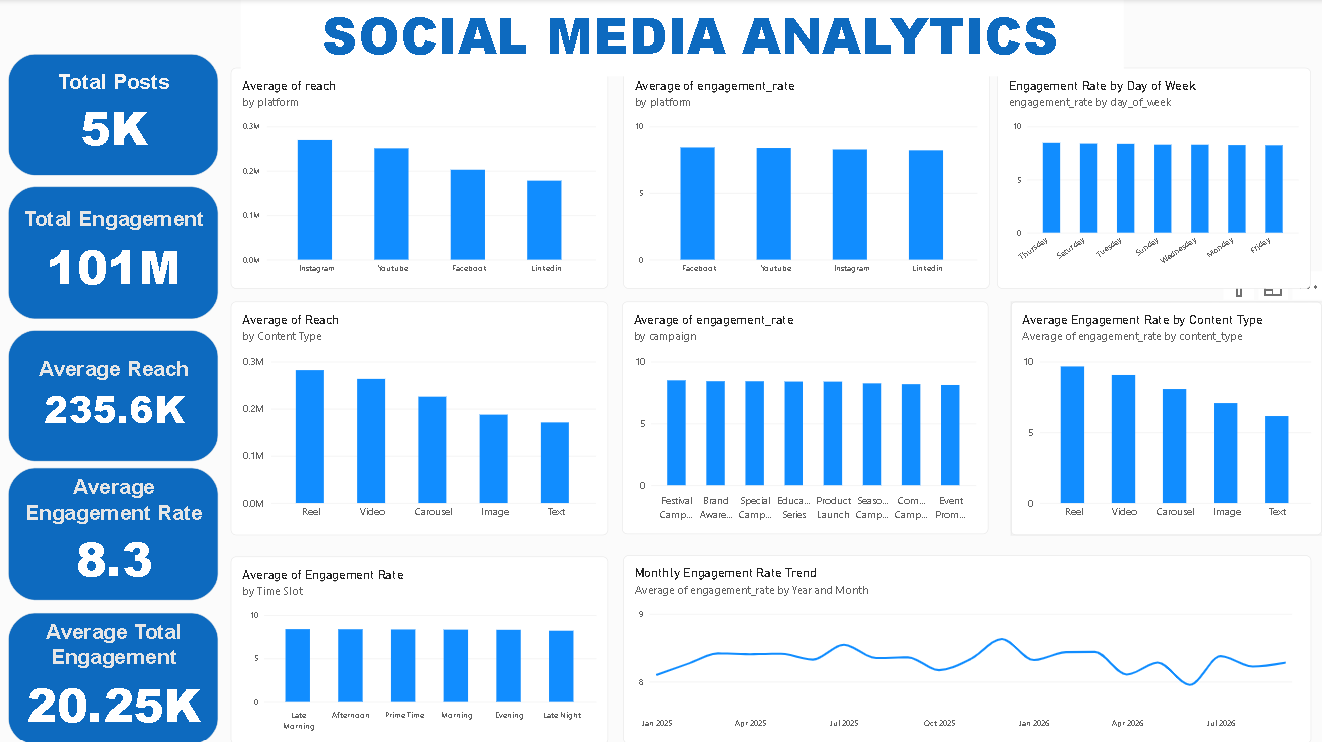

Layout of this report page (visuals, bound fields, positions):
{"tool":"powerbi","page":{"name":"Page 1","canvas":[1920,1080],"ordinal":0},"visuals":[{"type":"cardVisual","fields":{"Data":["CountNonNull(social_media_campaign_analytics social_media_posts.post_id)"]},"box":[16,80,304,176],"z":0},{"type":"clusteredColumnChart","fields":{"Category":["social_media_campaign_analytics social_media_posts.platform"],"Y":["Avg(social_media_campaign_analytics social_media_posts.engagement_rate)"]},"box":[906,100,530,320],"z":1000},{"type":"clusteredColumnChart","title":"Average Engagement Rate by Content Type","fields":{"Category":["social_media_campaign_analytics social_media_posts.content_type"],"Y":["Avg(social_media_campaign_analytics social_media_posts.engagement_rate)"]},"box":[1468,438,452,338],"z":2000},{"type":"clusteredColumnChart","fields":{"Category":["social_media_campaign_analytics social_media_posts.platform"],"Y":["Avg(social_media_campaign_analytics social_media_posts.reach)"]},"box":[338,100,546,320],"z":3000},{"type":"clusteredColumnChart","fields":{"Category":["social_media_campaign_analytics social_media_posts.content_type"],"Y":["Avg(social_media_campaign_analytics social_media_posts.reach)"]},"box":[338.3,438.3,546,338],"z":4000},{"type":"clusteredColumnChart","fields":{"Category":["social_media_campaign_analytics social_media_posts.campaign"],"Y":["Avg(social_media_campaign_analytics social_media_posts.engagement_rate)"]},"box":[906,438,530,338],"z":5000},{"type":"clusteredColumnChart","fields":{"Category":["social_media_campaign_analytics social_media_posts.time_slot"],"Y":["Avg(social_media_campaign_analytics social_media_posts.engagement_rate)"]},"box":[338.3,806.7,546.7,273.3],"z":6000},{"type":"clusteredColumnChart","title":" Engagement Rate by Day of Week","fields":{"Category":["social_media_campaign_analytics social_media_posts.day_of_week"],"Y":["Avg(social_media_campaign_analytics social_media_posts.engagement_rate)"]},"box":[1448,100,454,320],"z":7000},{"type":"lineChart","title":"Monthly Engagement Rate Trend","fields":{"Category":["social_media_campaign_analytics social_media_posts.post_date_actual.Variation.Date Hierarchy.Year","social_media_campaign_analytics social_media_posts.post_date_actual.Variation.Date Hierarchy.Month"],"Y":["Avg(social_media_campaign_analytics social_media_posts.engagement_rate)"]},"box":[906,806,996,274],"z":8000},{"type":"textbox","box":[352,0,1278,112],"z":9000},{"type":"cardVisual","fields":{"Data":["Sum(social_media_campaign_analytics social_media_posts.total_engagement)"]},"box":[16,272,304,192],"z":10000},{"type":"cardVisual","fields":{"Data":["Avg(social_media_campaign_analytics social_media_posts.reach)"]},"box":[16,480,304,190],"z":11000},{"type":"cardVisual","fields":{"Data":["Avg(social_media_campaign_analytics social_media_posts.engagement_rate)"]},"box":[16.4,679.1,304,192],"z":12000},{"type":"cardVisual","fields":{"Data":["Avg(social_media_campaign_analytics social_media_posts.total_engagement)"]},"box":[16,888,304,192],"z":13000}]}

Visuals, with their boxes in screenshot pixels (x1, y1, x2, y2), scaled from the page's 1920x1080 canvas onto the 1322x742 screenshot:
cardVisual - CountNonNull(social_media_campaign_analytics social_media_posts.post_id): 11, 55, 220, 176
clusteredColumnChart - social_media_campaign_analytics social_media_posts.platform x Avg(social_media_campaign_analytics social_media_posts.engagement_rate): 624, 69, 989, 289
"Average Engagement Rate by Content Type" clusteredColumnChart: 1011, 301, 1321, 533
clusteredColumnChart - social_media_campaign_analytics social_media_posts.platform x Avg(social_media_campaign_analytics social_media_posts.reach): 233, 69, 609, 289
clusteredColumnChart - social_media_campaign_analytics social_media_posts.content_type x Avg(social_media_campaign_analytics social_media_posts.reach): 233, 301, 609, 533
clusteredColumnChart - social_media_campaign_analytics social_media_posts.campaign x Avg(social_media_campaign_analytics social_media_posts.engagement_rate): 624, 301, 989, 533
clusteredColumnChart - social_media_campaign_analytics social_media_posts.time_slot x Avg(social_media_campaign_analytics social_media_posts.engagement_rate): 233, 554, 609, 741
" Engagement Rate by Day of Week" clusteredColumnChart: 997, 69, 1310, 289
"Monthly Engagement Rate Trend" lineChart: 624, 554, 1310, 741
textbox: 242, 0, 1122, 77
cardVisual - Sum(social_media_campaign_analytics social_media_posts.total_engagement): 11, 187, 220, 319
cardVisual - Avg(social_media_campaign_analytics social_media_posts.reach): 11, 330, 220, 460
cardVisual - Avg(social_media_campaign_analytics social_media_posts.engagement_rate): 11, 467, 221, 598
cardVisual - Avg(social_media_campaign_analytics social_media_posts.total_engagement): 11, 610, 220, 741
